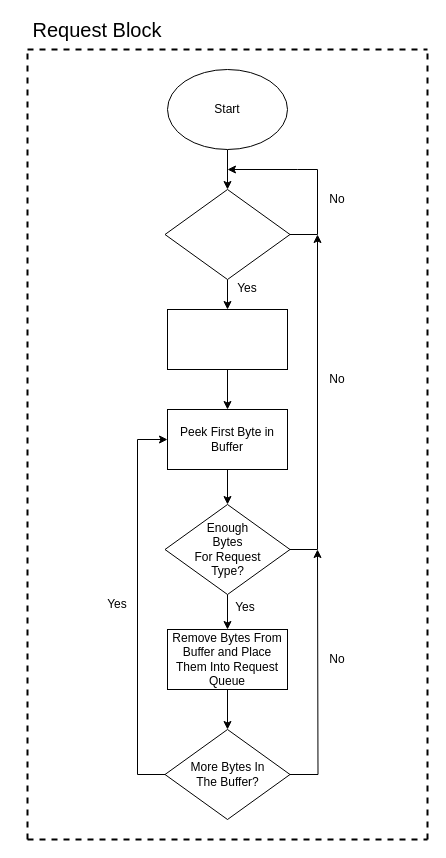
This 446x858 diagram has some shape labels left out. Each missing label, with the box of its shape:
Bytes Available From Remote Endpoint?: (164, 188, 290, 280)
Read Bytes Into Buffer: (166, 308, 288, 370)
